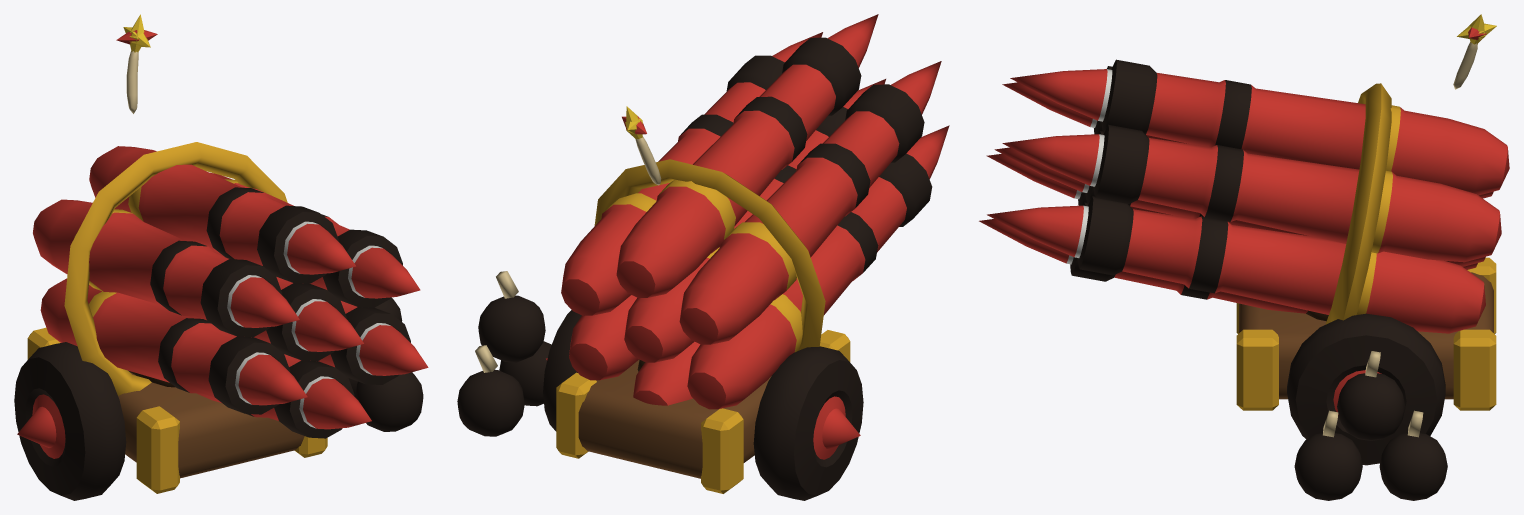
3 views of the same model, side by side, from view 1: azimuth 30°, elevation 25°; view 2: azimuth 150°, elevation 25°; view 3: azimuth 270°, elevation 25° (orthographic).
Parts seen in each view (by area): view 1: bomba_1_torreta, bomba_0_base; view 2: bomba_1_torreta, bomba_0_base; view 3: bomba_1_torreta, bomba_0_base.
Part boxes in pixels (box(x1,y1,x2,y2)): bomba_1_torreta: box(33, 14, 428, 438); bomba_0_base: box(14, 297, 423, 500); bomba_1_torreta: box(561, 14, 949, 409); bomba_0_base: box(457, 271, 863, 500); bomba_1_torreta: box(979, 14, 1509, 333); bomba_0_base: box(1236, 257, 1496, 500).
Bounding box in the file's own units: 0.9344 × 0.947 × 1.13.
